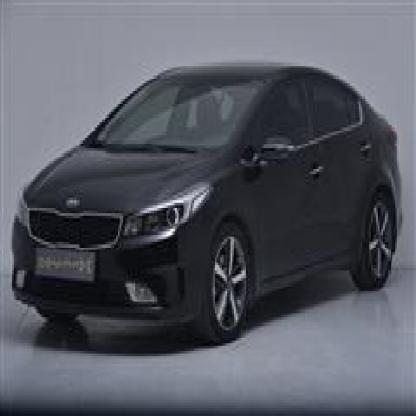Car: (14, 57, 412, 341)
